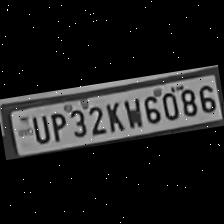0: (157, 87, 180, 121)
2: (84, 100, 107, 134)
3: (64, 104, 88, 138)
6: (194, 80, 218, 114), (139, 90, 162, 124)
8: (175, 84, 199, 119)
K: (102, 98, 125, 132)
P: (45, 107, 69, 142)
U: (27, 110, 50, 144)
W: (120, 94, 142, 128)
